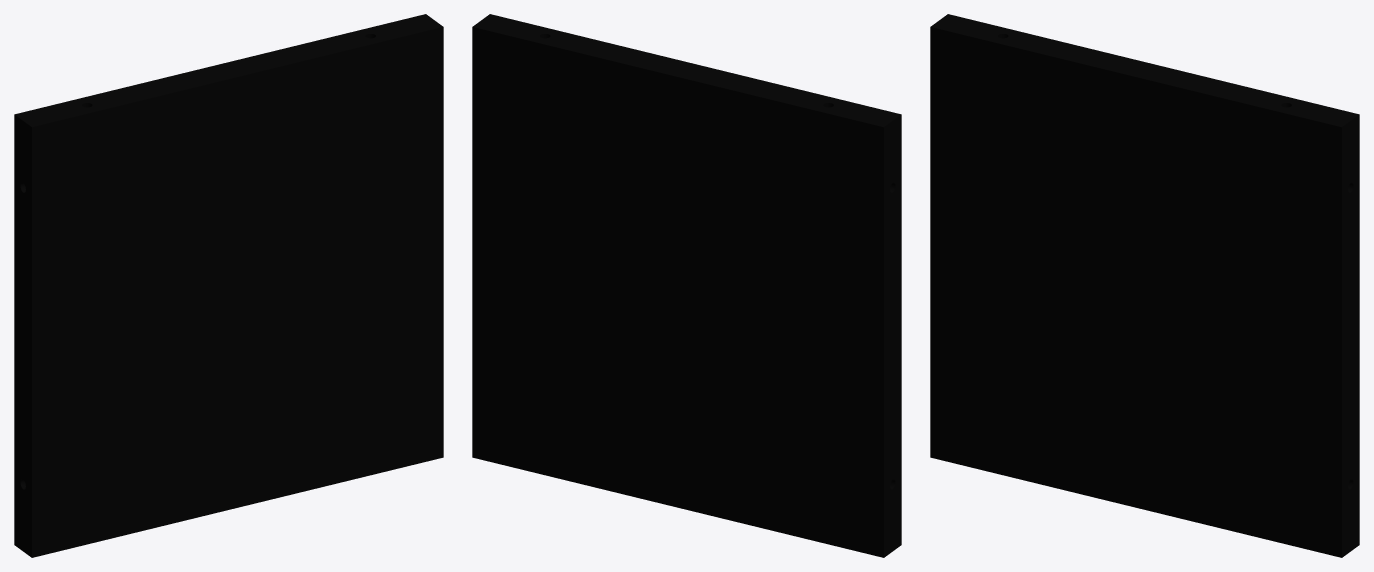
Rendered from Panel_270x270_UV.glb.
3 views of the same model, side by side, from view 1: azimuth 30°, elevation 25°; view 2: azimuth 150°, elevation 25°; view 3: azimuth 330°, elevation 25° (orthographic).
Visible parts, largest first — view 1: Panel_270x270; view 2: Panel_270x270; view 3: Panel_270x270.
Boxes of the visible parts, left/top/right/bottom form: Panel_270x270: left=14, top=14, right=443, bottom=557; Panel_270x270: left=472, top=14, right=901, bottom=557; Panel_270x270: left=930, top=14, right=1359, bottom=557.
Bounding box in the file's own units: 0.27 × 0.27 × 0.02.
1 material, 1 textured.
